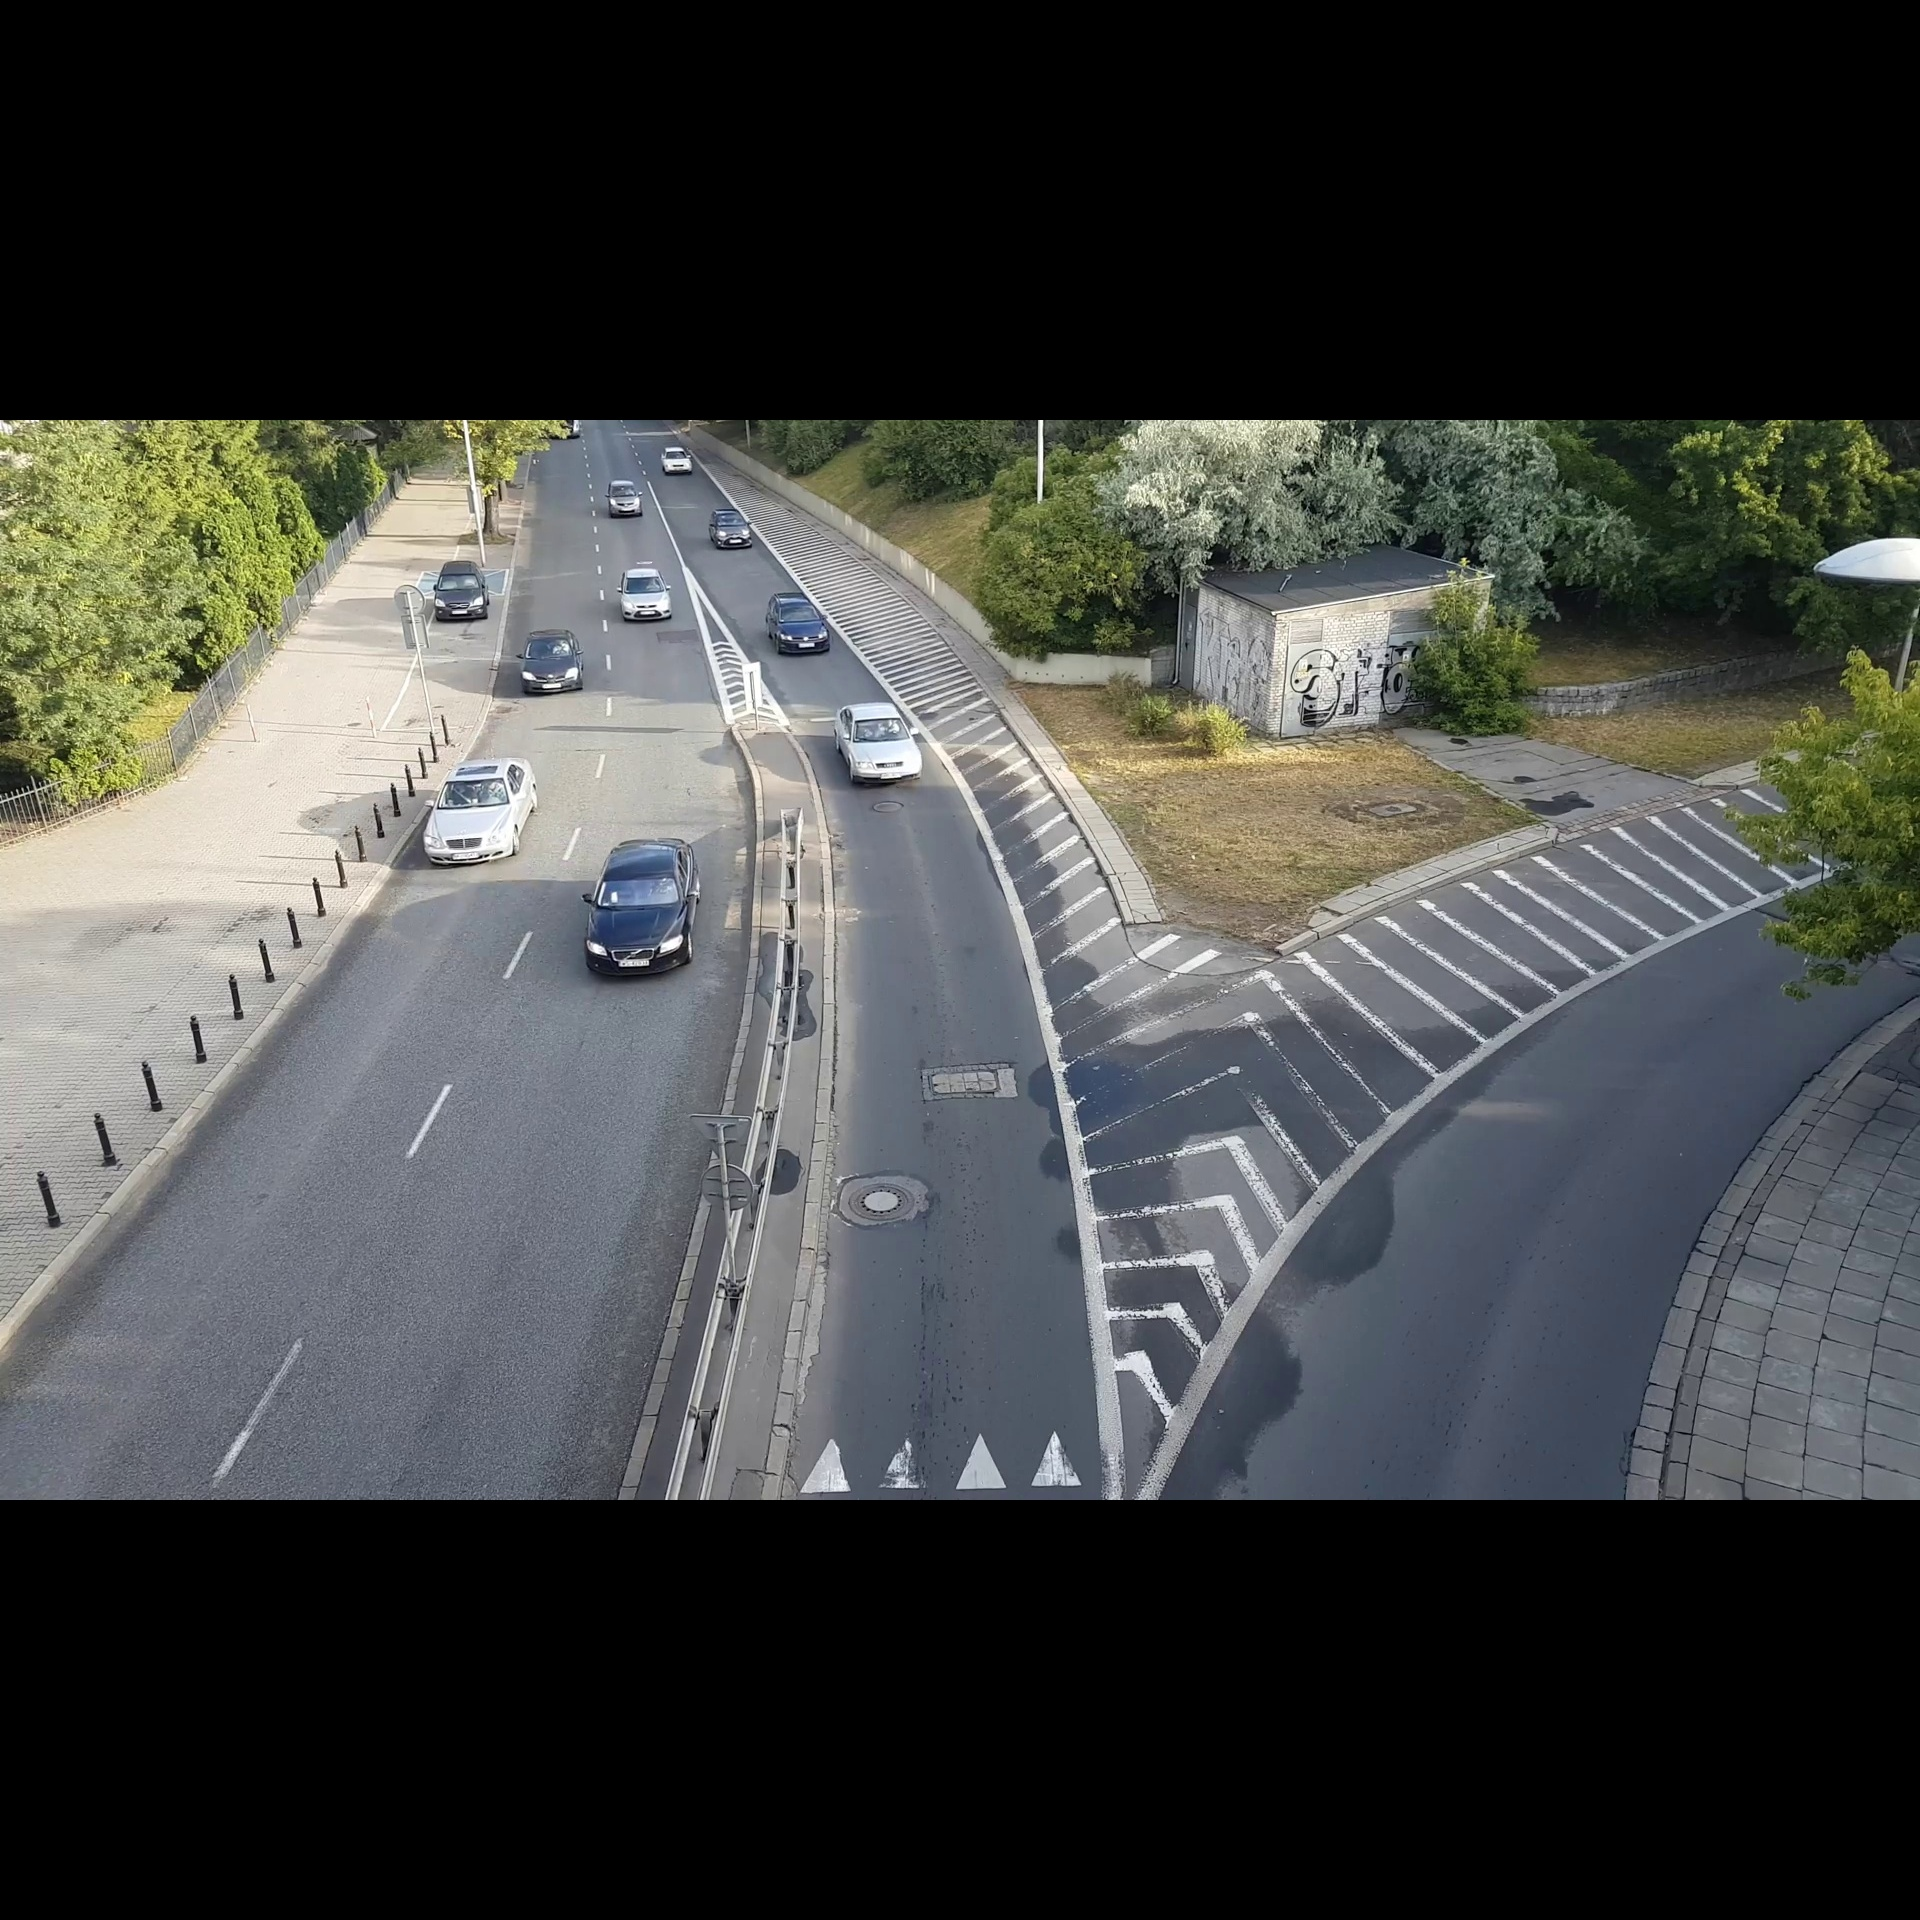vehicle: (582, 828, 707, 988), (418, 751, 547, 877), (828, 693, 928, 791), (512, 624, 593, 702), (763, 587, 833, 659), (429, 554, 494, 622), (615, 557, 675, 629), (707, 501, 758, 557), (601, 475, 642, 522), (658, 441, 698, 476)
